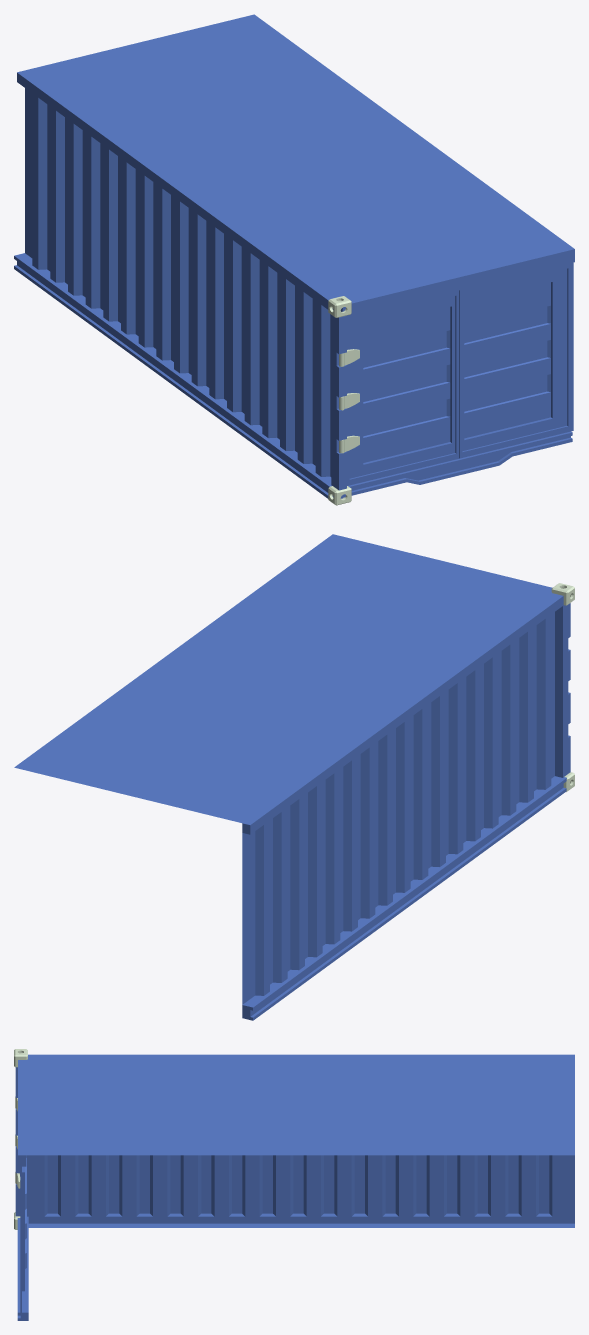
File: shipping_container.fbx
3 views of the same model, one above another, from view 1: azimuth 30°, elevation 25°; view 2: azimuth 150°, elevation 25°; view 3: azimuth 270°, elevation 25° (orthographic). The views are drawn at different scales.
Visible parts, largest first — view 1: FRAME.004, FRAME.001, FRAME.003, Cylinder.001, FRAME.002; view 2: FRAME.004, FRAME.001; view 3: FRAME.004, FRAME.001, FRAME.003.
Part boxes in pixels (x1,y1,x2,y2): FRAME.004: (14,14,574,498); FRAME.001: (25,88,331,476); FRAME.003: (346,262,573,485); Cylinder.001: (339,349,359,453); FRAME.002: (328,296,351,505); FRAME.004: (14,534,570,1020); FRAME.001: (242,612,554,1004); FRAME.004: (15,1054,574,1320); FRAME.001: (27,1155,574,1216); FRAME.003: (20,1155,26,1313).
Size of the model in its own units: 263 by 609 by 211.
